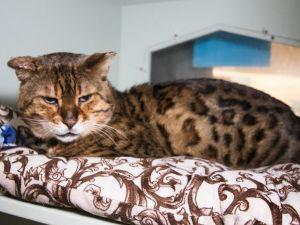bengal: (4, 43, 119, 151)
